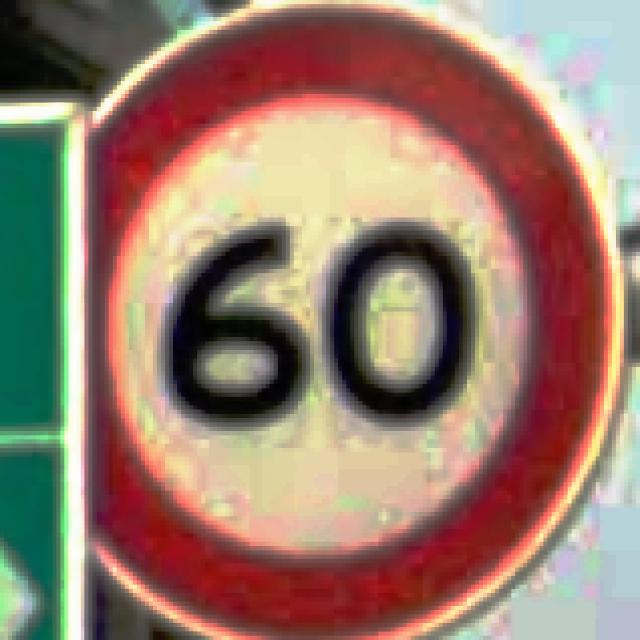max60: (80, 0, 624, 636)
